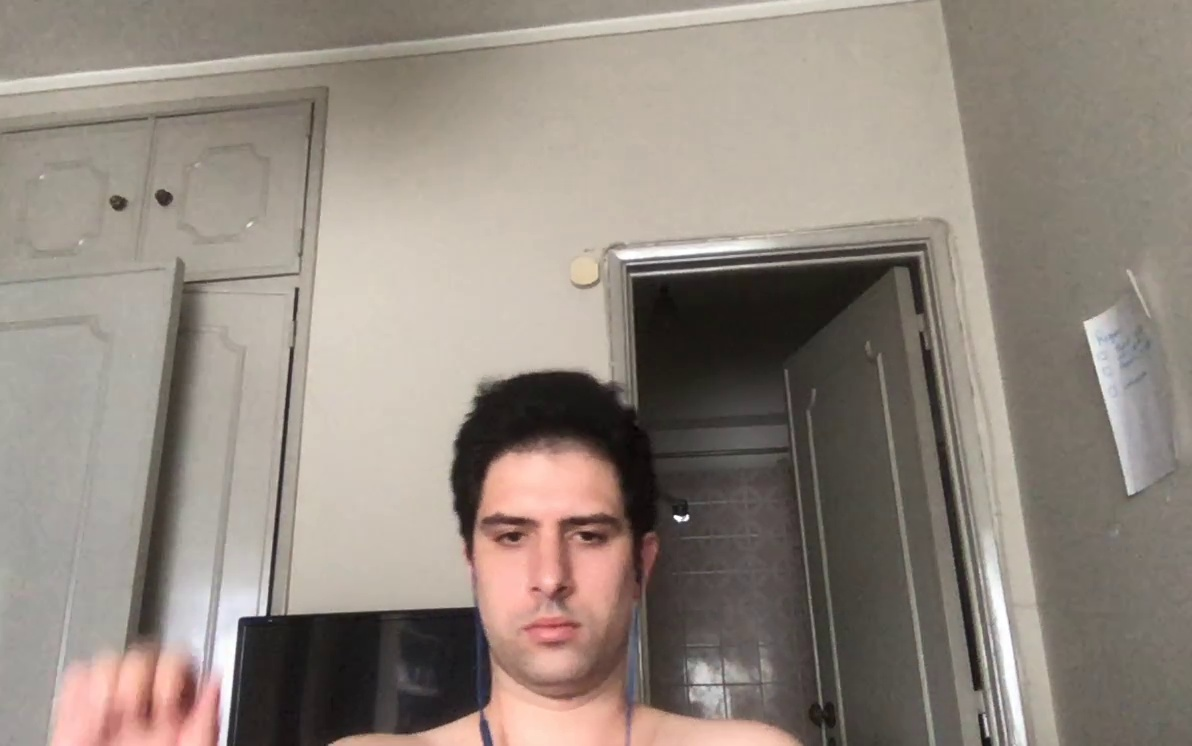c: (52, 650, 226, 746)
